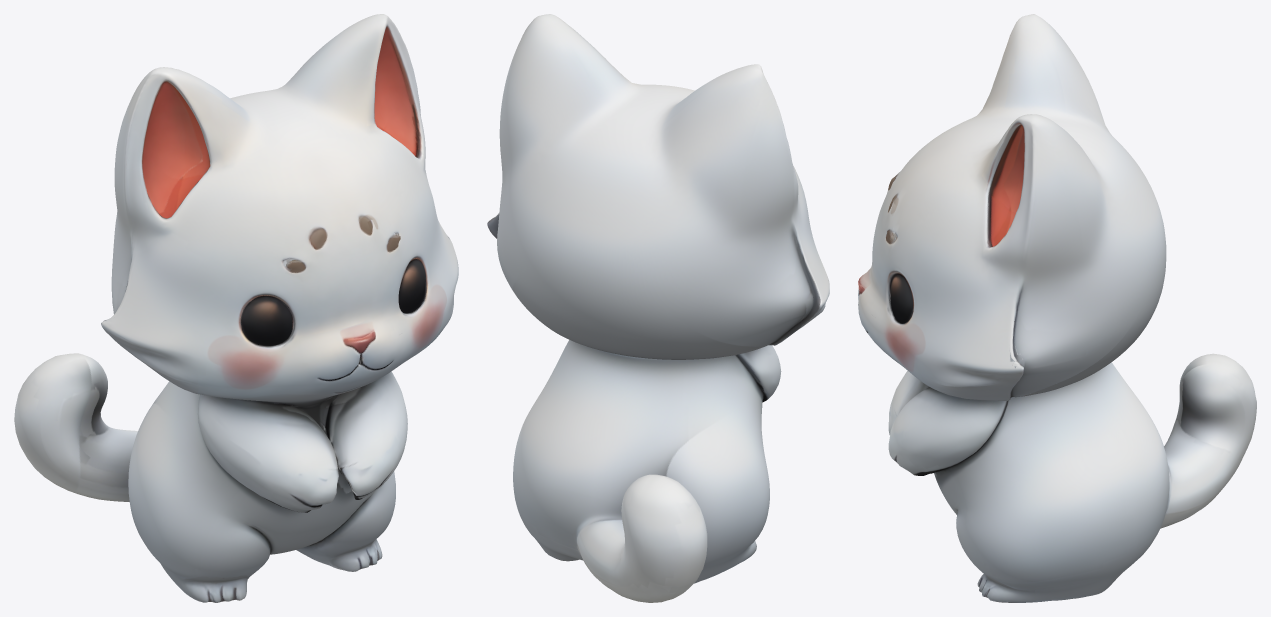
Rendered from base_basic_shaded.glb.
3 renders of one model, left to right at view 1: azimuth 30°, elevation 25°; view 2: azimuth 150°, elevation 25°; view 3: azimuth 270°, elevation 25°, orthographic. The views are drawn at different scales.
Parts seen in each view (by area): view 1: model; view 2: model; view 3: model.
Boxes of the visible parts, x1,y1,x2,y2 form: model: (14,14,458,602); model: (487,14,829,602); model: (858,14,1256,602).
Size of the model in its own units: 1.32 by 1.91 by 1.39.
Materials: 1 (1 with a texture image).
